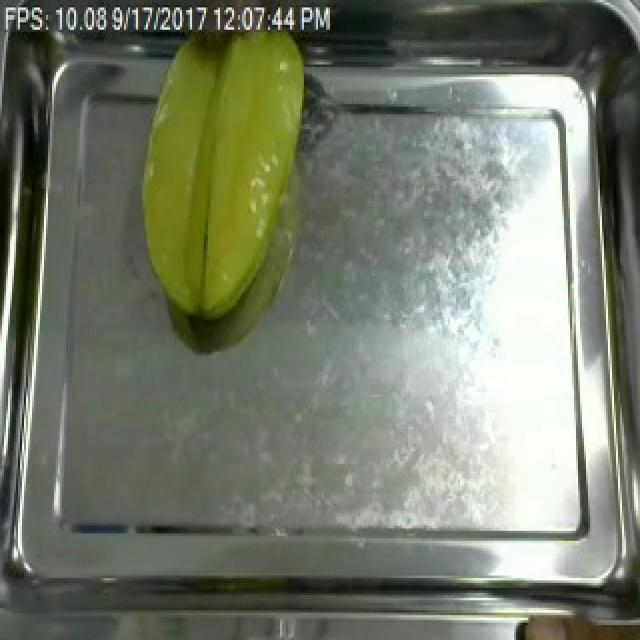fruit: (126, 20, 312, 337)
